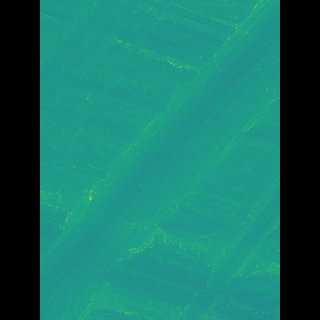Loch: (68, 0, 250, 319), (152, 152, 249, 319), (70, 0, 151, 115)
